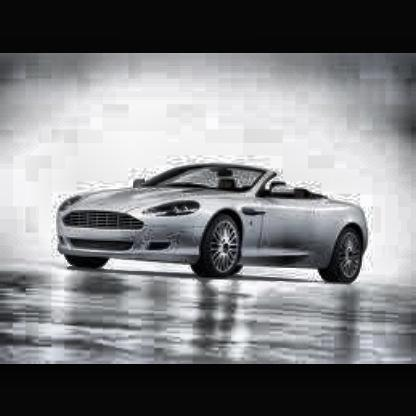Aston Martin V8 Vantage Convertible 2012: (55, 163, 373, 286)
